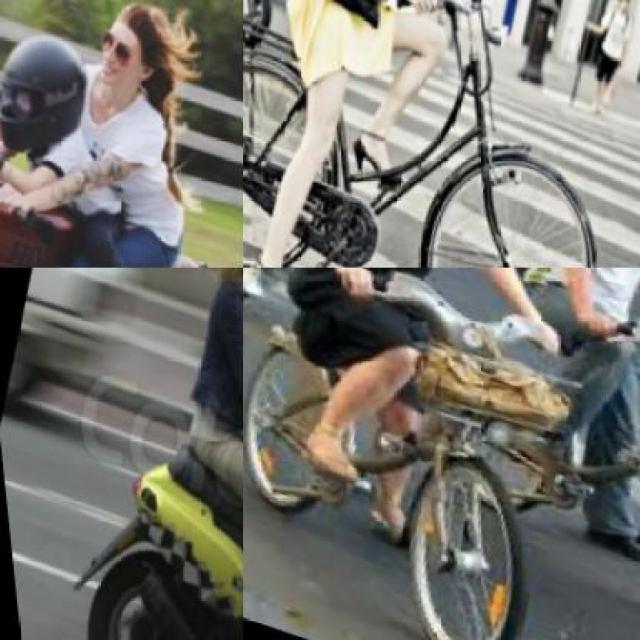With Helmet: (0, 6, 103, 154)
Without Helmet: (71, 0, 206, 106)
